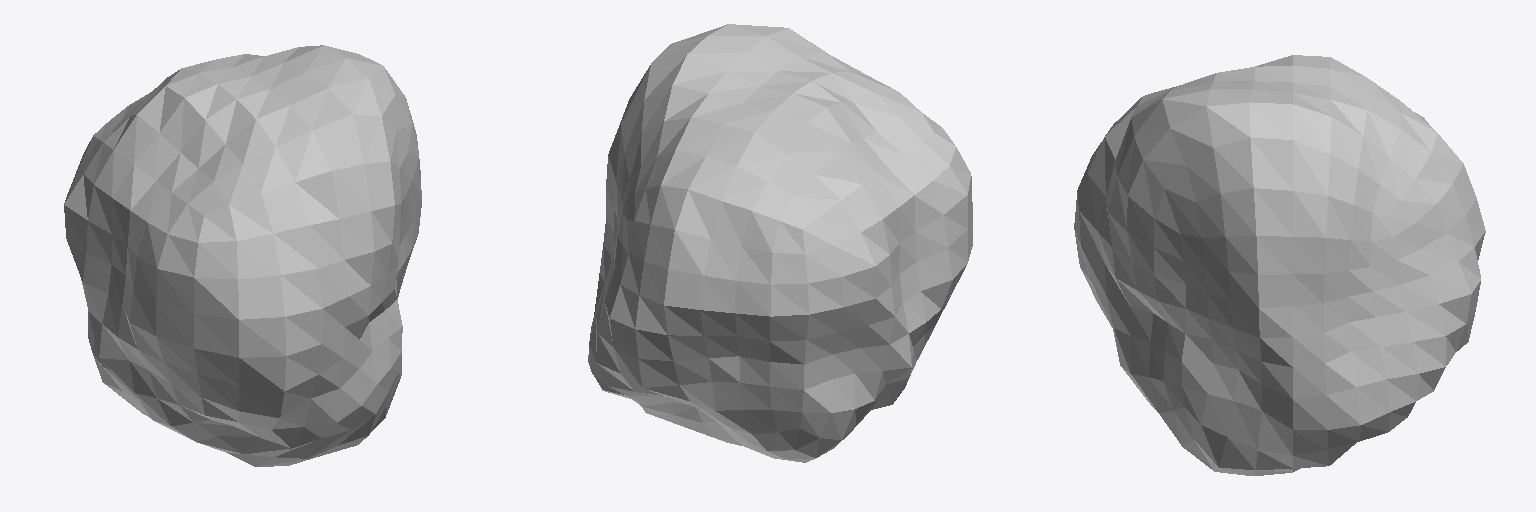
Rendered from Rocks.obj.
3 views of the same model, side by side, from view 1: azimuth 30°, elevation 25°; view 2: azimuth 150°, elevation 25°; view 3: azimuth 270°, elevation 25° (orthographic).
Parts seen in each view (by area): view 1: Cube; view 2: Cube; view 3: Cube.
Part boxes in pixels (bbox=[...]): Cube: bbox=[64, 45, 421, 466]; Cube: bbox=[588, 24, 972, 462]; Cube: bbox=[1074, 55, 1485, 475].
Size of the model in its own units: 9.67 by 11.32 by 11.09.